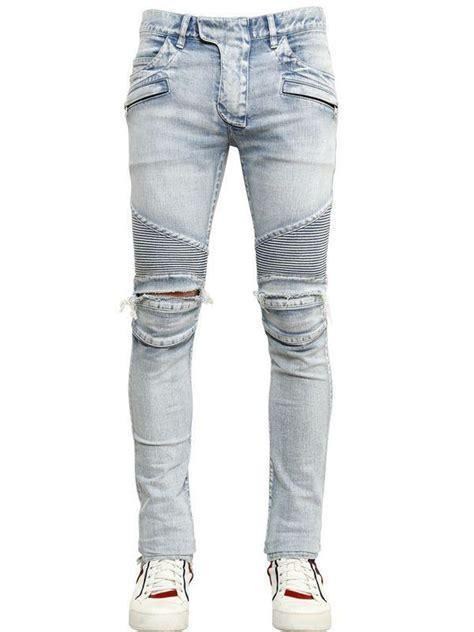pants: (124, 7, 338, 561)
